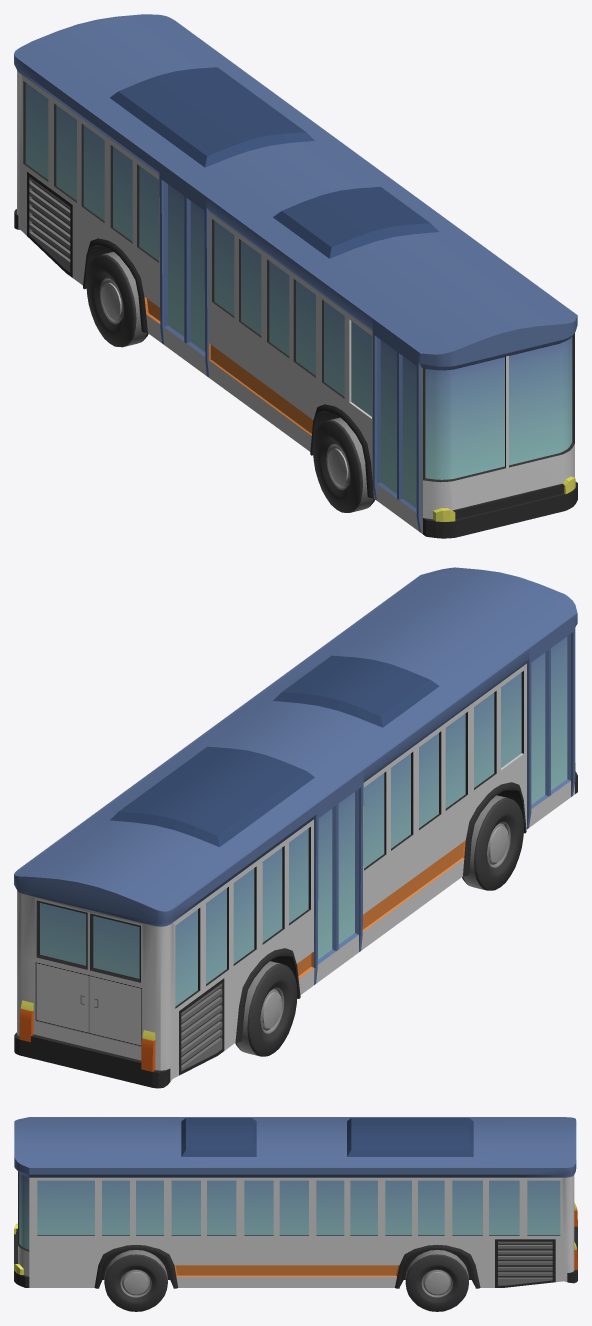
The model's file is Bus.fbx.
3 views of the same model, one above another, from view 1: azimuth 30°, elevation 25°; view 2: azimuth 150°, elevation 25°; view 3: azimuth 270°, elevation 25° (orthographic). The views are drawn at different scales.
Visible parts, largest first — view 1: pCube8; view 2: pCube8; view 3: pCube8.
Part boxes in pixels (x1,y1,x2,y2): pCube8: [14, 14, 577, 538]; pCube8: [14, 567, 577, 1088]; pCube8: [14, 1117, 577, 1311].
Size of the model in its own units: 2.38 by 3.14 by 10.34.
